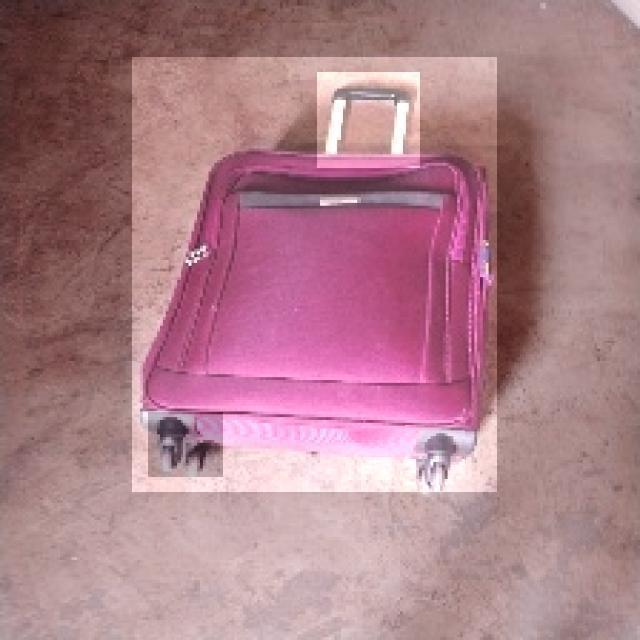Suitcase: (136, 64, 496, 493)
